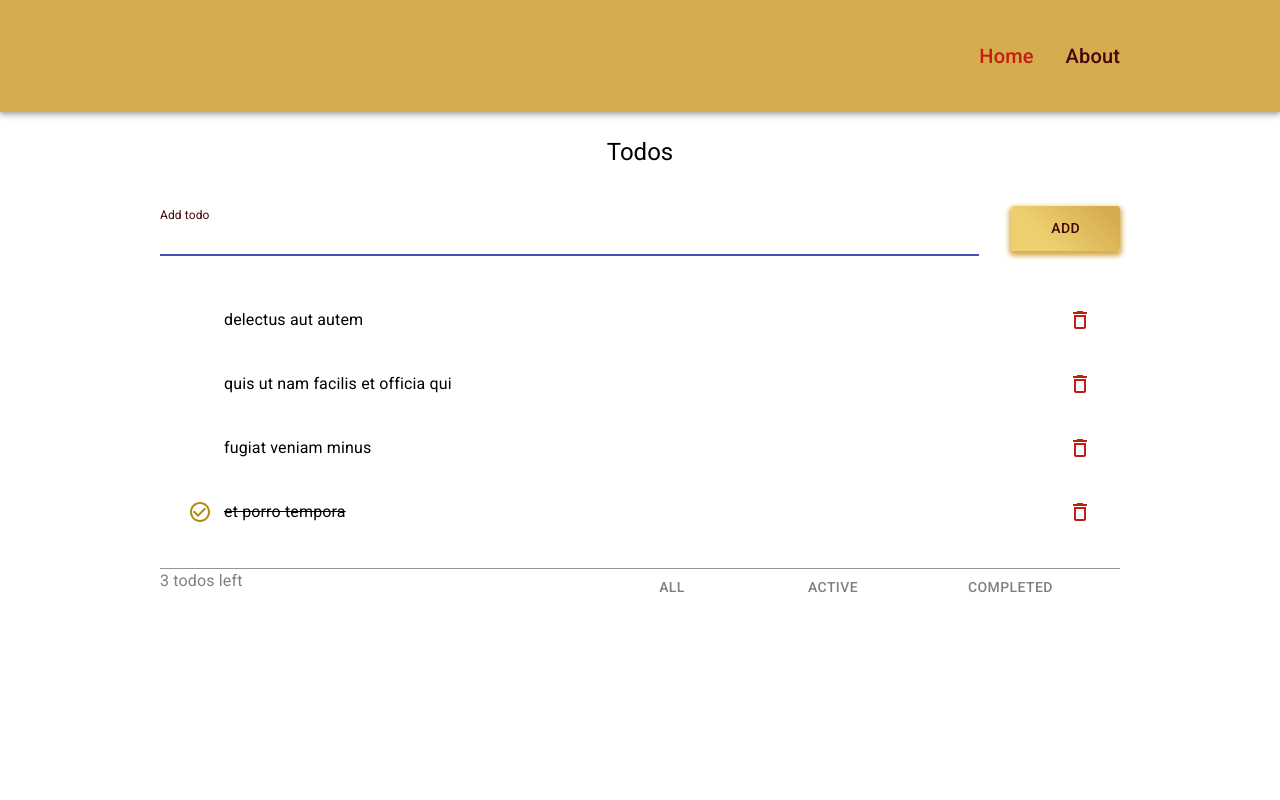
Todos items › Marks an incomplete item complete
Click the text "delectus aut autem". click: (294, 320)
box: [224,310,363,329]
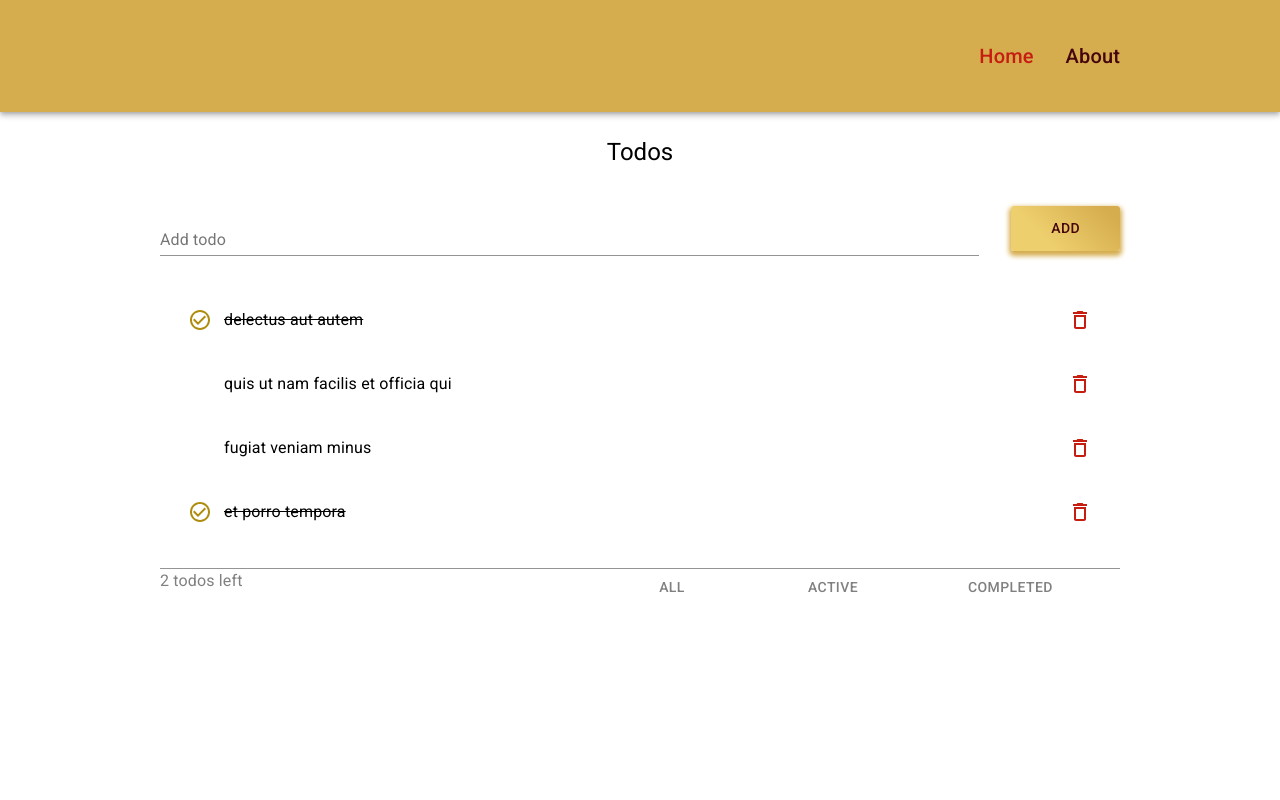
Check: the text with test id "todo-count" reads "2 todos left", box [160,571,243,590]
